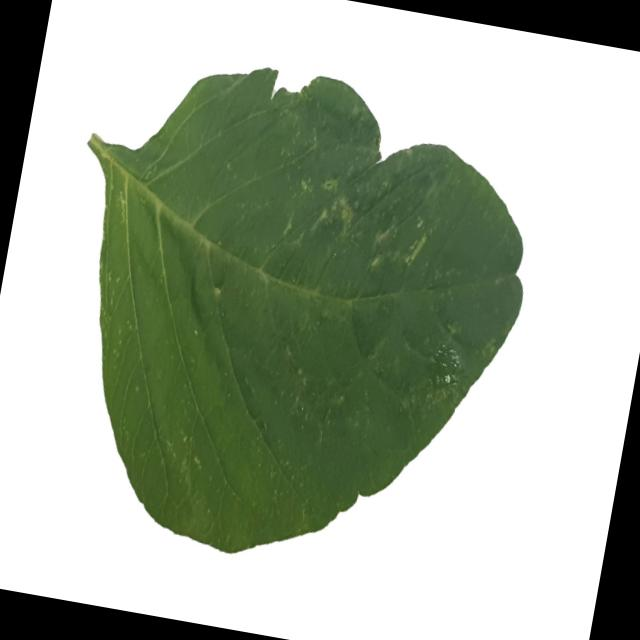Medicinal-Arive Dantu: (18, 33, 556, 600)
